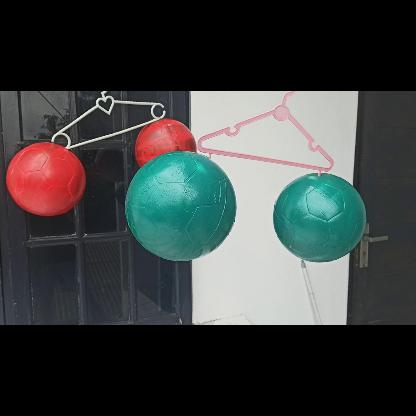red_ball: (6, 140, 84, 216)
